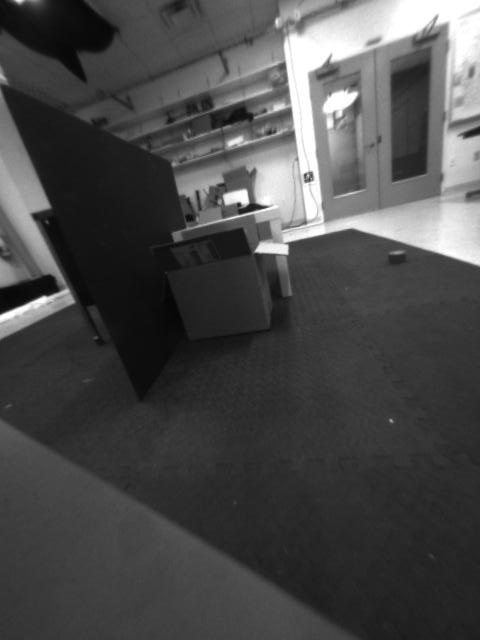dogtoy: (372, 240, 417, 275)
